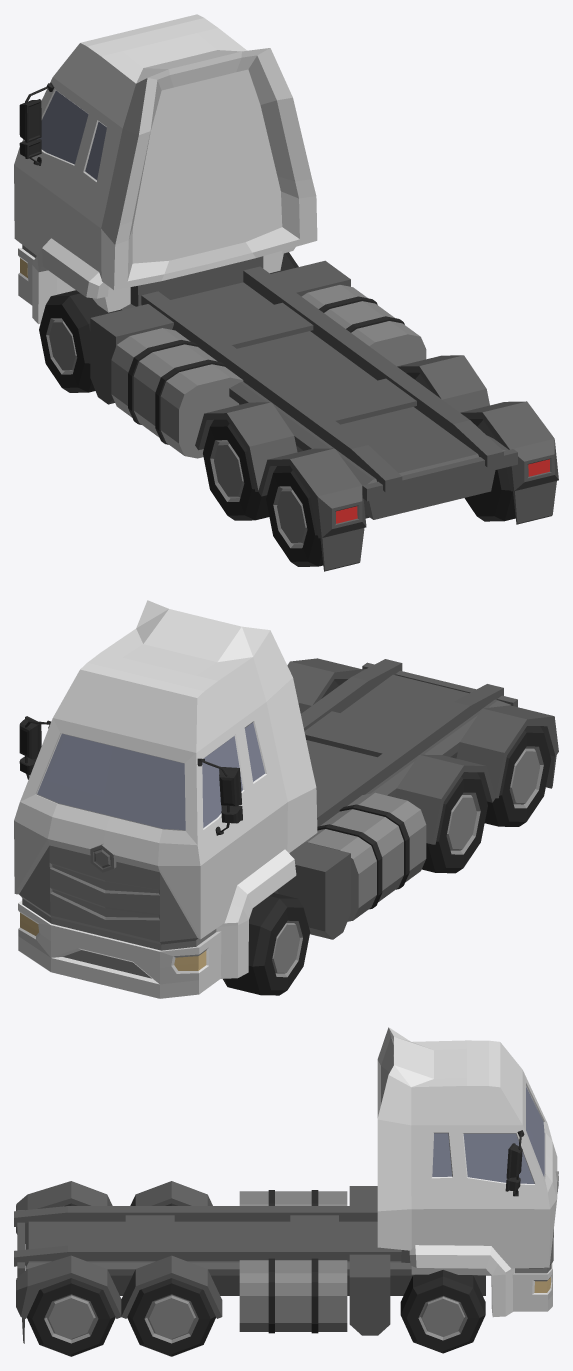
Rendered from pp_cargo_truck_jtoastie__tractor_v0.2.glb.
3 renders of one model, top to bottom at view 1: azimuth 30°, elevation 25°; view 2: azimuth 150°, elevation 25°; view 3: azimuth 270°, elevation 25°, orthographic. The views are drawn at different scales.
Visible parts, largest first — view 1: Truck, TruckTiresBack2, FrontTires, TruckTiresBack1; view 2: Truck, FrontTires, TruckTiresBack2, TruckTiresBack1; view 3: Truck, FrontTires, TruckTiresBack2, TruckTiresBack1.
Part boxes in pixels (x1=…): Truck: x1=14, y1=14, x2=558, y2=571; TruckTiresBack2: x1=266, y1=419, x2=515, y2=566; FrontTires: x1=39, y1=252, x2=298, y2=392; TruckTiresBack1: x1=203, y1=372, x2=432, y2=520; Truck: x1=14, y1=600, x2=558, y2=998; FrontTires: x1=223, y1=893, x2=310, y2=995; TruckTiresBack2: x1=321, y1=679, x2=551, y2=826; TruckTiresBack1: x1=421, y1=772, x2=487, y2=873; Truck: x1=14, y1=1027, x2=558, y2=1343; FrontTires: x1=400, y1=1270, x2=485, y2=1353; TruckTiresBack2: x1=27, y1=1203, x2=115, y2=1356; TruckTiresBack1: x1=127, y1=1203, x2=215, y2=1356.
Bounding box in the file's own units: 2.59 × 3.27 × 6.15.
